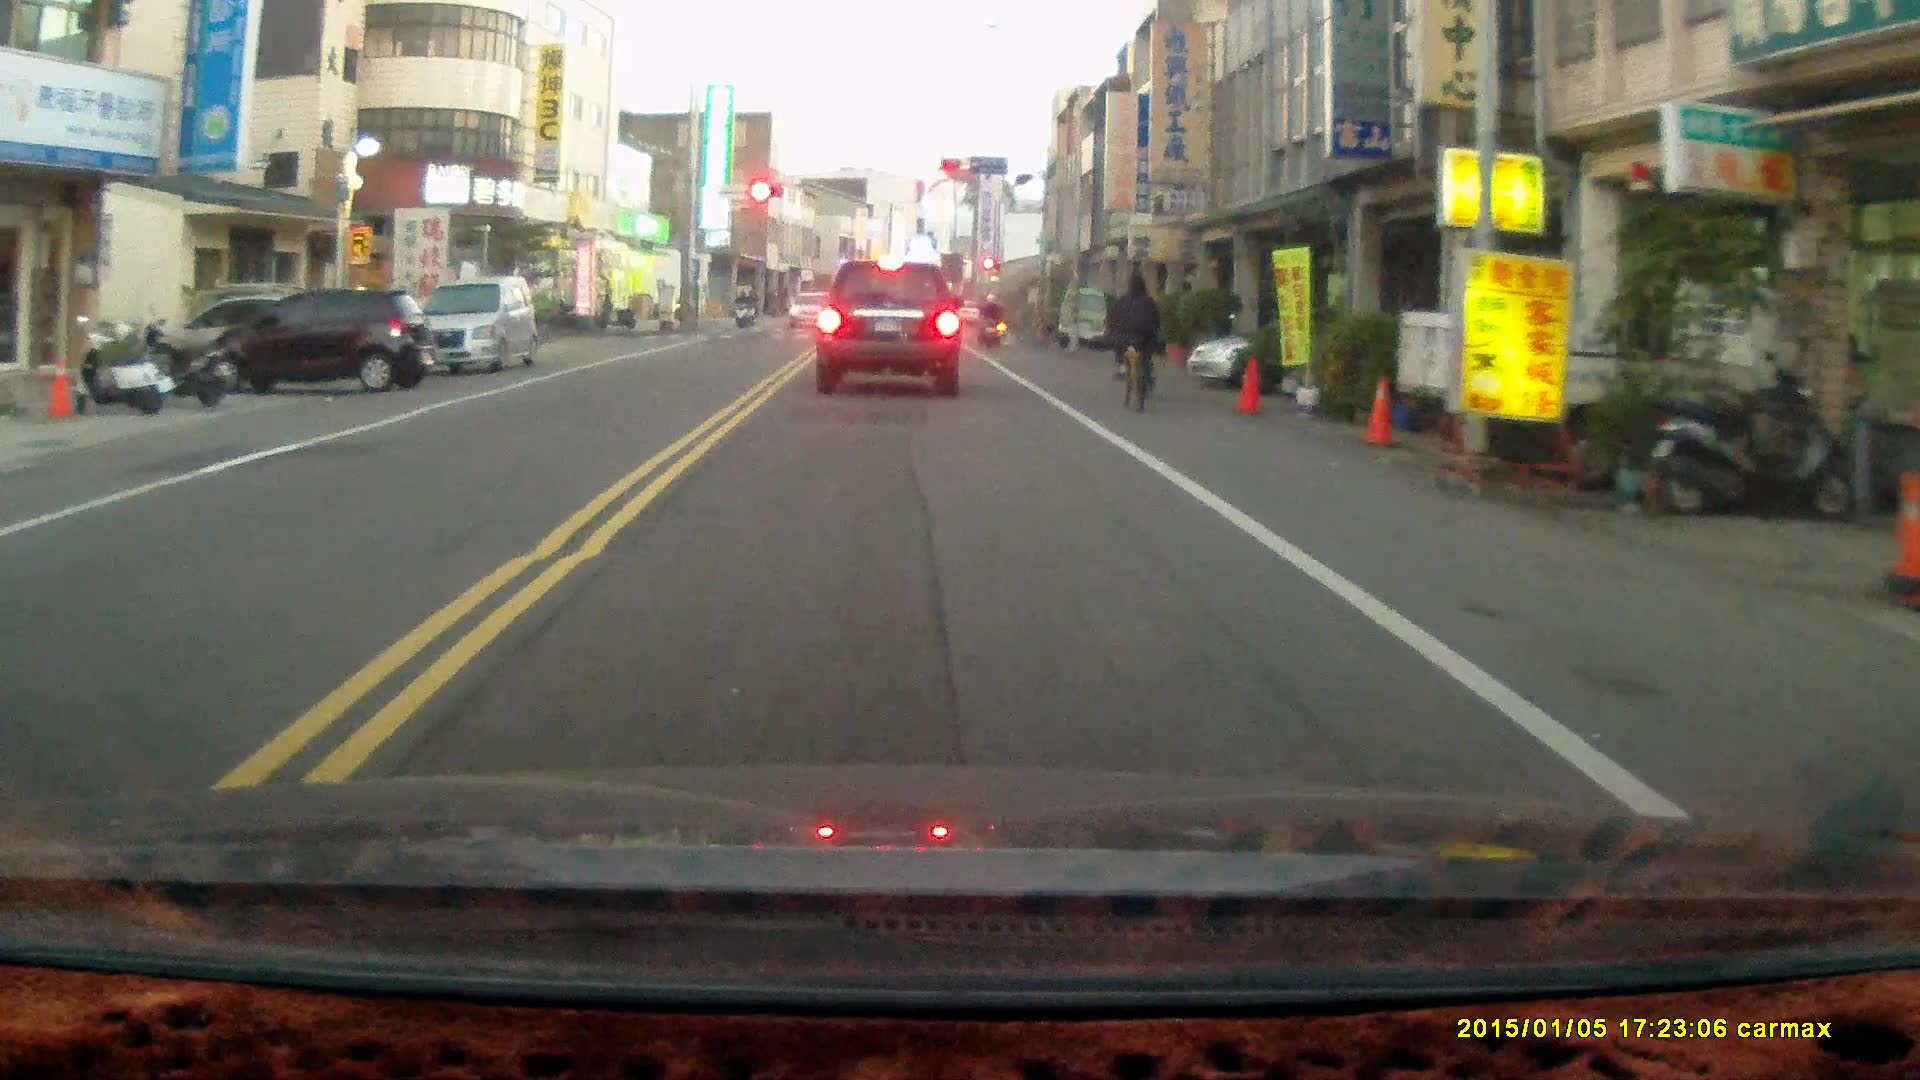rider: (1106, 265, 1162, 409), (973, 289, 1002, 348), (732, 283, 755, 327)
vehicle: (211, 286, 432, 394), (813, 260, 966, 401), (1185, 316, 1437, 398), (394, 276, 535, 377)
